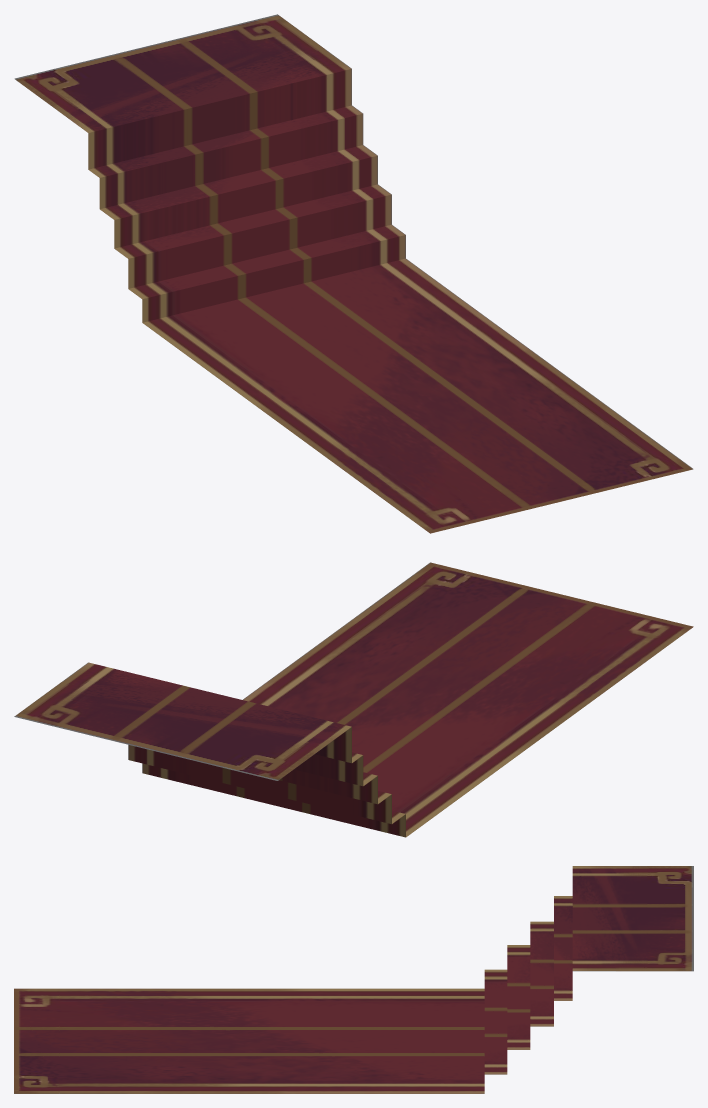
The model's file is Carpet_01.glb.
3 renders of one model, top to bottom at view 1: azimuth 30°, elevation 25°; view 2: azimuth 150°, elevation 25°; view 3: azimuth 270°, elevation 25°, orthographic. The views are drawn at different scales.
Visible parts, largest first — view 1: Carpet_01; view 2: Carpet_01; view 3: Carpet_01.
Part boxes in pixels (x1,y1,x2,y2): Carpet_01: [14, 14, 693, 533]; Carpet_01: [14, 562, 693, 837]; Carpet_01: [14, 866, 693, 1093].
Bounding box in the file's own units: 3.33 × 1.81 × 9.11.
1 material, 1 textured.
